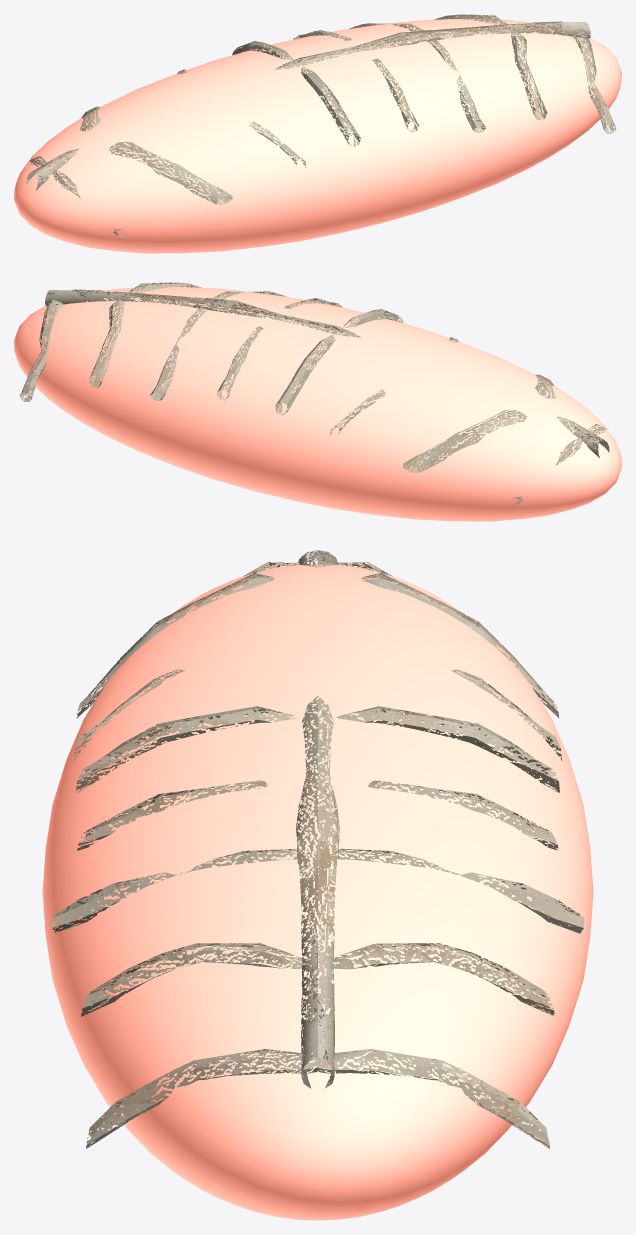
File: Moby Dick - Inside all inclusive.fbx
3 renders of one model, top to bottom at view 1: azimuth 30°, elevation 25°; view 2: azimuth 150°, elevation 25°; view 3: azimuth 270°, elevation 25°, orthographic. The views are drawn at different scales.
Visible parts, largest first — view 1: Stomach, Spine; view 2: Stomach, Spine; view 3: Stomach, Spine.
Boxes of the visible parts, bbox=[...] form: Stomach: bbox=[14, 18, 621, 253]; Spine: bbox=[26, 14, 616, 237]; Stomach: bbox=[14, 286, 621, 521]; Spine: bbox=[20, 282, 609, 506]; Stomach: bbox=[42, 563, 593, 1220]; Spine: bbox=[51, 550, 584, 1148].
Size of the model in its own units: 1395 by 360 by 561.
